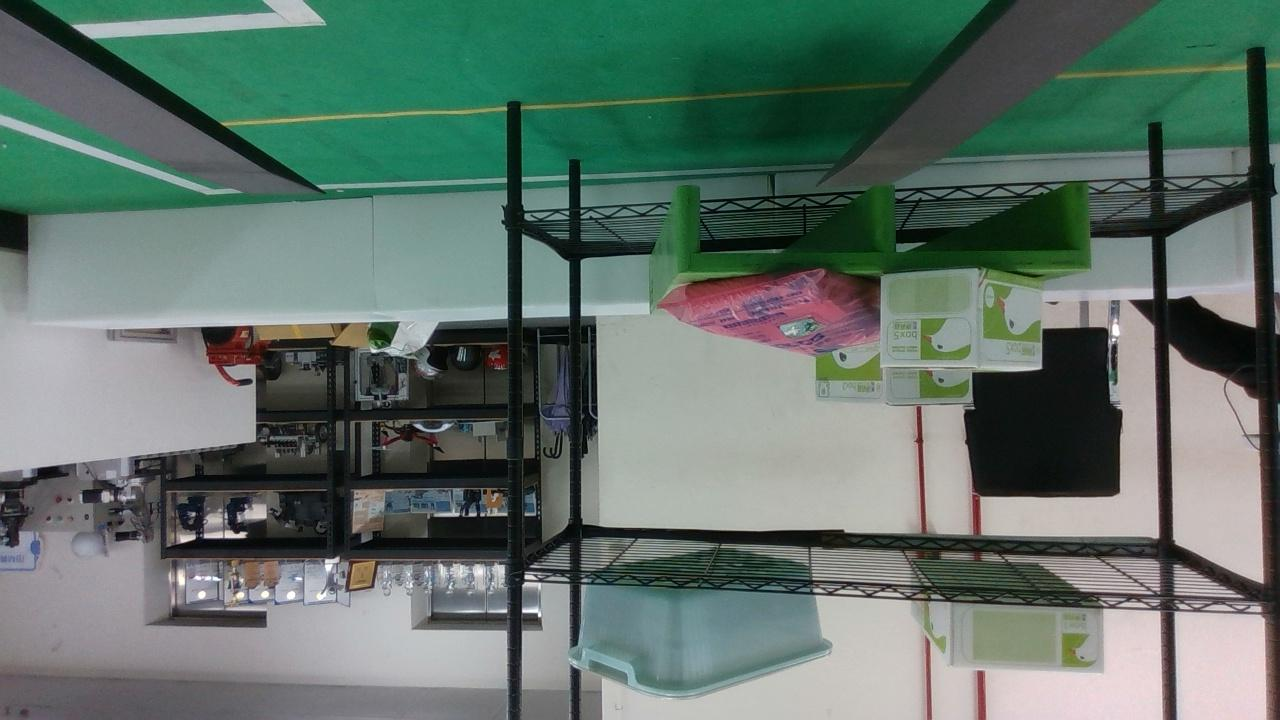Pallet: (675, 181, 1091, 275)
